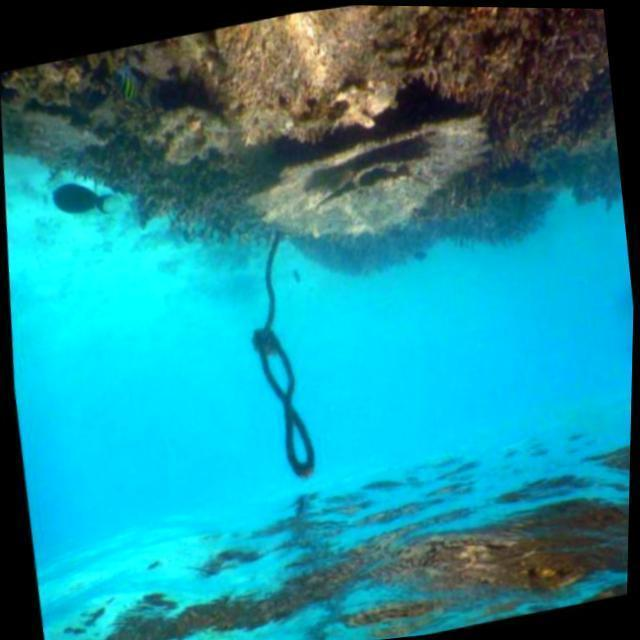Dead Coral: (228, 91, 510, 271), (205, 3, 454, 154), (464, 6, 621, 172), (99, 25, 231, 176)
